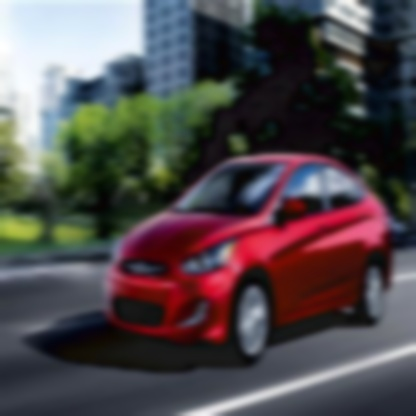Vehicle: (103, 150, 394, 368)
